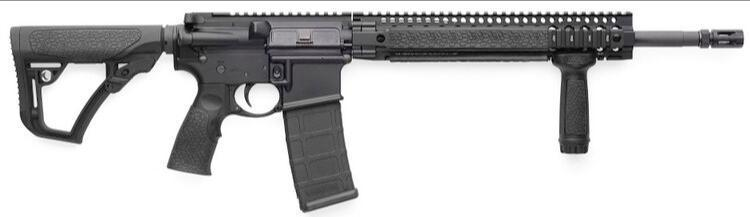gun: (8, 10, 744, 213)
